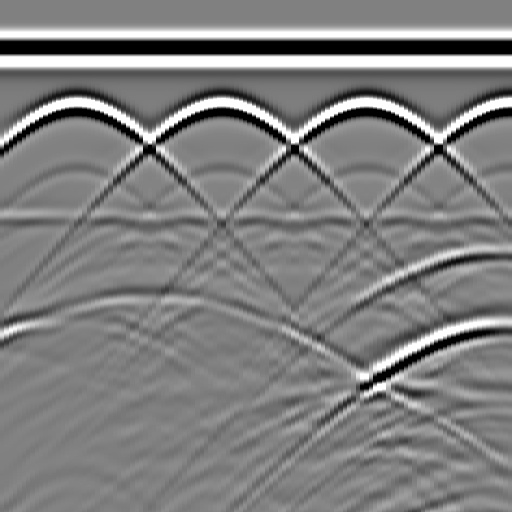grout_surface: (1, 204, 512, 234)
rebar: (55, 86, 95, 126), (199, 86, 239, 126), (344, 86, 384, 126), (488, 86, 512, 126)
rock_surface: (1, 295, 511, 392)
water_void: (465, 227, 512, 267)
